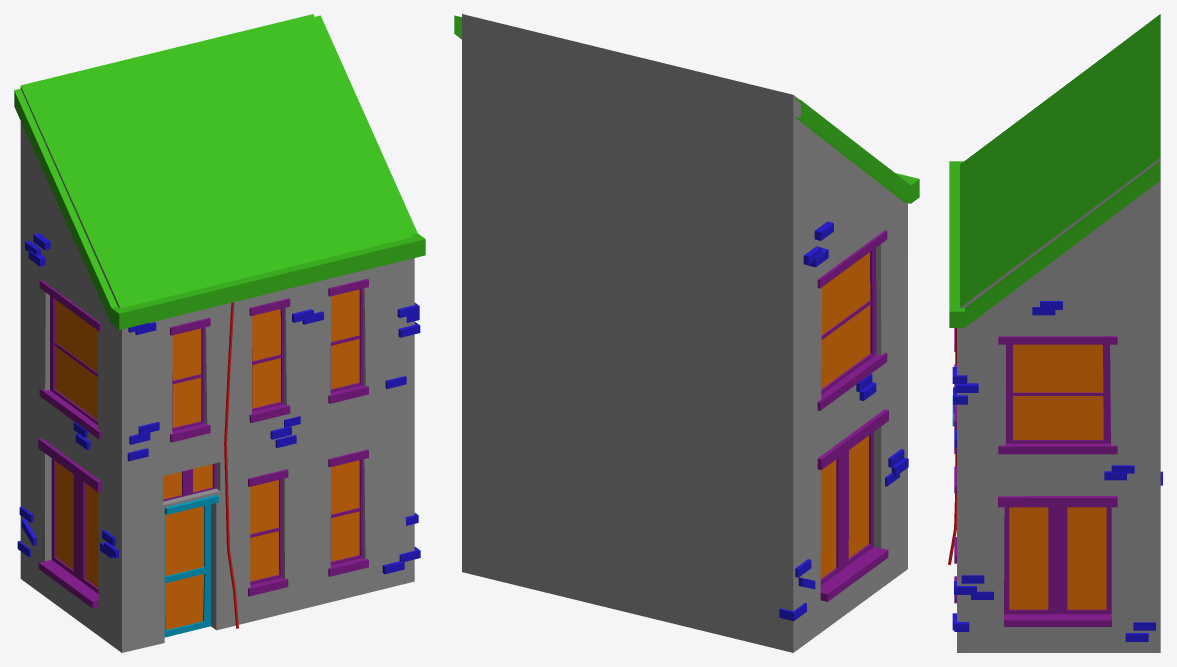
File: Huis3_Export.FBX
3 views of the same model, side by side, from view 1: azimuth 30°, elevation 25°; view 2: azimuth 150°, elevation 25°; view 3: azimuth 270°, elevation 25° (orthographic). The views are drawn at different scales.
Visible parts, largest first — view 1: Huis003; view 2: Huis003; view 3: Huis003.
Part boxes in pixels (<box>): Huis003: <box>14,14,425,652</box>; Huis003: <box>454,14,919,652</box>; Huis003: <box>948,14,1162,652</box>.
Bounding box in the file's own units: 523 × 806 × 316.
